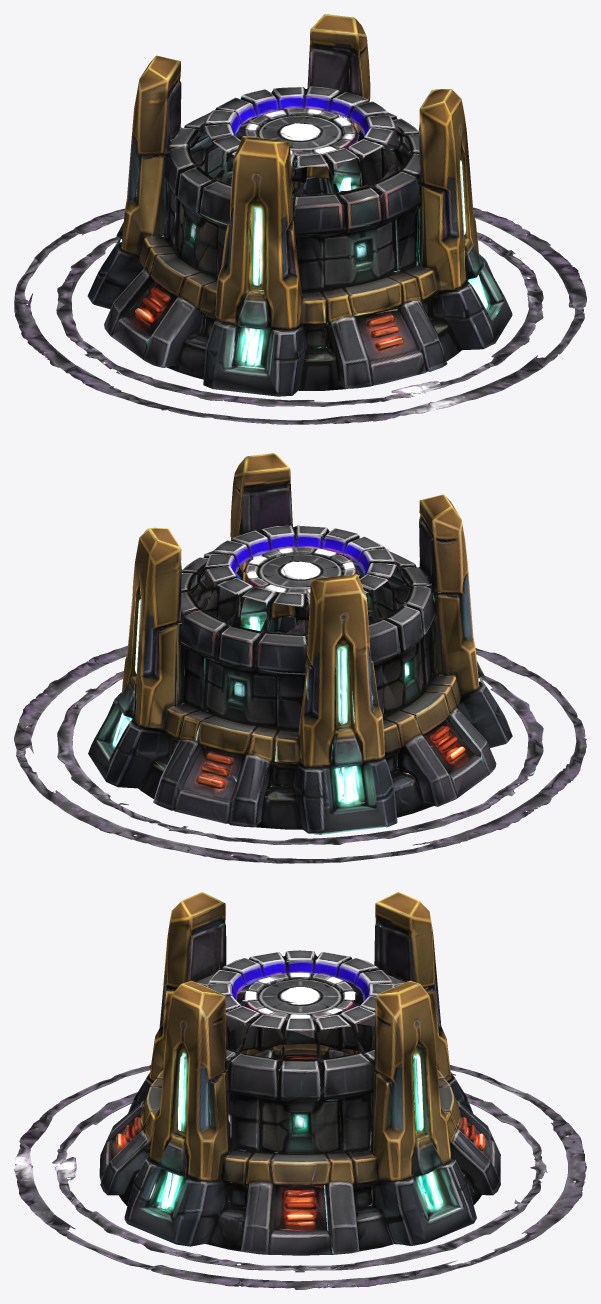
Rendered from pulse_split_base_ring_0727.fbx.
The picture shows the model from 3 angles, top to bottom: view 1: azimuth 30°, elevation 25°; view 2: azimuth 150°, elevation 25°; view 3: azimuth 270°, elevation 25°; orthographic projection.
Visible parts, largest first — view 1: Base, Ring; view 2: Base, Ring; view 3: Base, Ring.
Part boxes in pixels (x1,y1,x2,y2): Base: [14, 14, 586, 424]; Ring: [199, 86, 399, 179]; Base: [14, 453, 586, 863]; Ring: [201, 525, 398, 615]; Base: [14, 892, 586, 1289]; Ring: [206, 950, 394, 1039].
Size of the model in its own units: 145 by 65.6 by 144.
